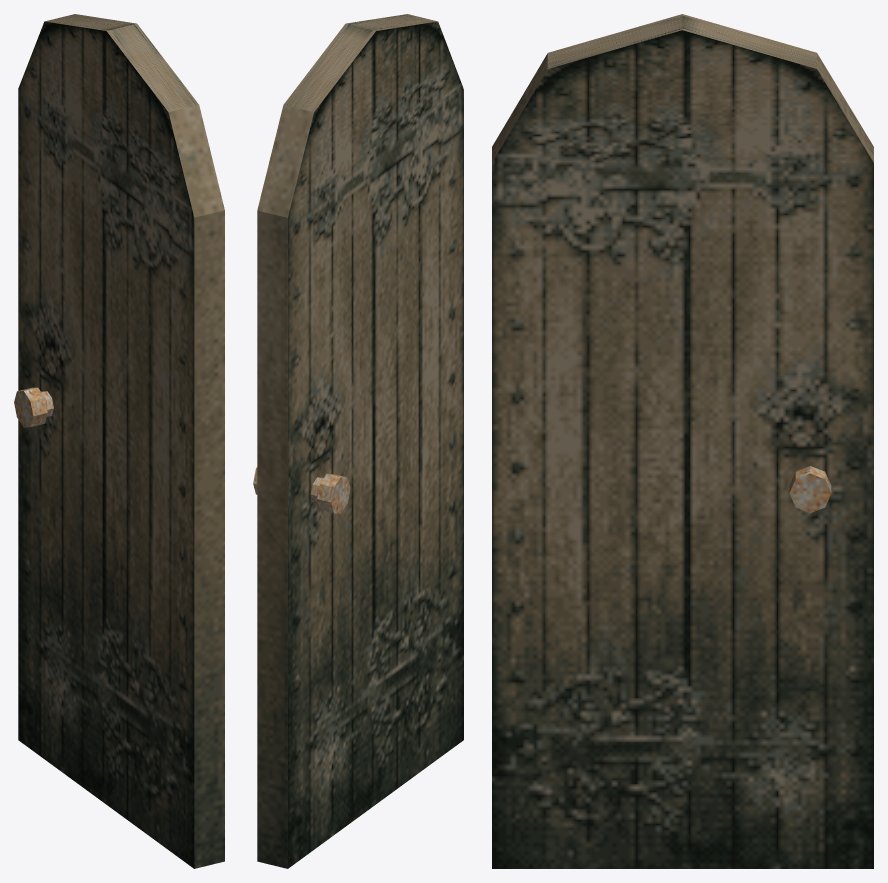
File: puerta.fbx
3 renders of one model, left to right at view 1: azimuth 30°, elevation 25°; view 2: azimuth 150°, elevation 25°; view 3: azimuth 270°, elevation 25°, orthographic. The views are drawn at different scales.
Parts seen in each view (by area): view 1: Cylinder.001, Pomo; view 2: Cylinder.001, Pomo; view 3: Cylinder.001, Pomo.
Part boxes in pixels (<box>): Cylinder.001: <box>18,14,224,868</box>; Pomo: <box>14,387,53,427</box>; Cylinder.001: <box>257,14,463,868</box>; Pomo: <box>253,467,350,513</box>; Cylinder.001: <box>492,14,873,868</box>; Pomo: <box>789,466,831,513</box>.
Size of the model in its own units: 98.18 by 25.16 by 238.
Materials: 2 (2 with a texture image).
